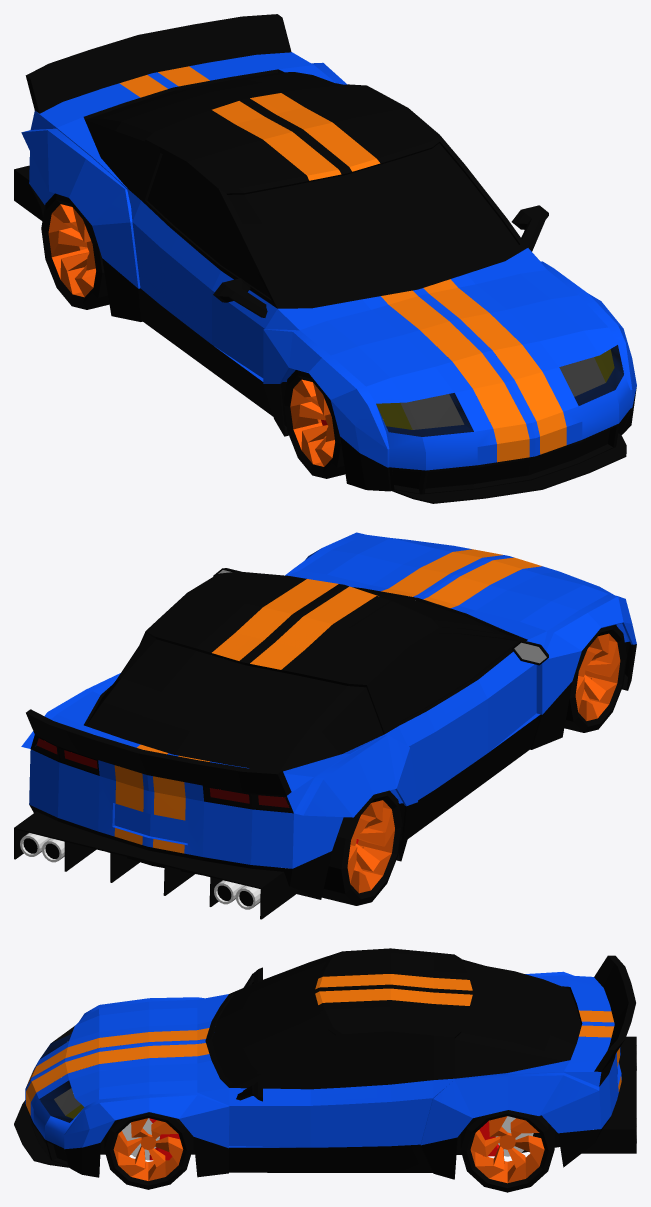
Rendered from fordmuscle.glb.
3 renders of one model, top to bottom at view 1: azimuth 30°, elevation 25°; view 2: azimuth 150°, elevation 25°; view 3: azimuth 270°, elevation 25°, orthographic. The views are drawn at different scales.
Parts seen in each view (by area): view 1: Muscle car 2.Body, 5.Wheel.Bk.R, 5.Wheel.Ft.R; view 2: Muscle car 2.Body, 5.Wheel.Bk.R, 5.Wheel.Ft.R; view 3: Muscle car 2.Body, 5.Wheel.Bk.L, 5.Wheel.Ft.L.
Boxes of the visible parts, left/top/right/bottom form: Muscle car 2.Body: left=14, top=14, right=636, bottom=503; 5.Wheel.Bk.R: left=41, top=193, right=109, bottom=309; 5.Wheel.Ft.R: left=283, top=370, right=345, bottom=478; Muscle car 2.Body: left=14, top=532, right=636, bottom=919; 5.Wheel.Bk.R: left=321, top=790, right=402, bottom=905; 5.Wheel.Ft.R: left=564, top=625, right=626, bottom=732; Muscle car 2.Body: left=14, top=948, right=636, bottom=1179; 5.Wheel.Bk.L: left=460, top=1110, right=554, bottom=1192; 5.Wheel.Ft.L: left=104, top=1112, right=192, bottom=1189.
Size of the model in its own units: 0.5351 by 0.2966 by 1.12.
